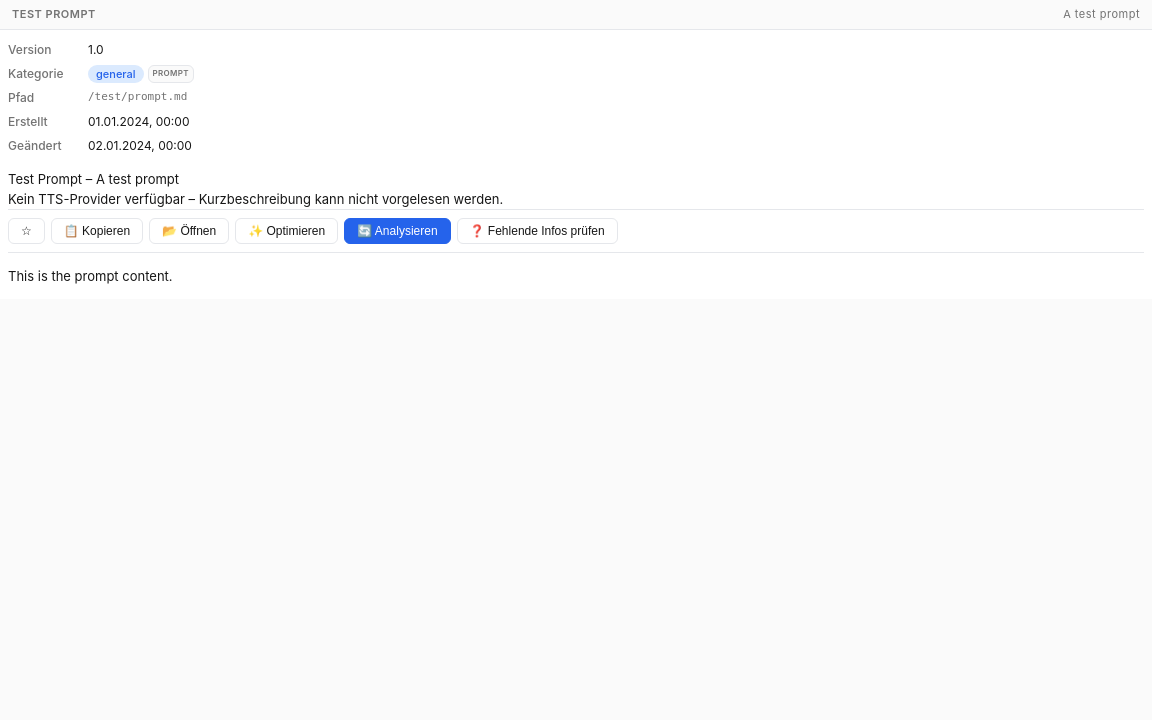
Scenario: DetailsPanel — Gate Trigger (Batch 6A) › handleOpenOptimizer does not crash when gateEnabled but no session exists
Click the button "✨ Optimieren": (287, 231) [235,218,338,244]
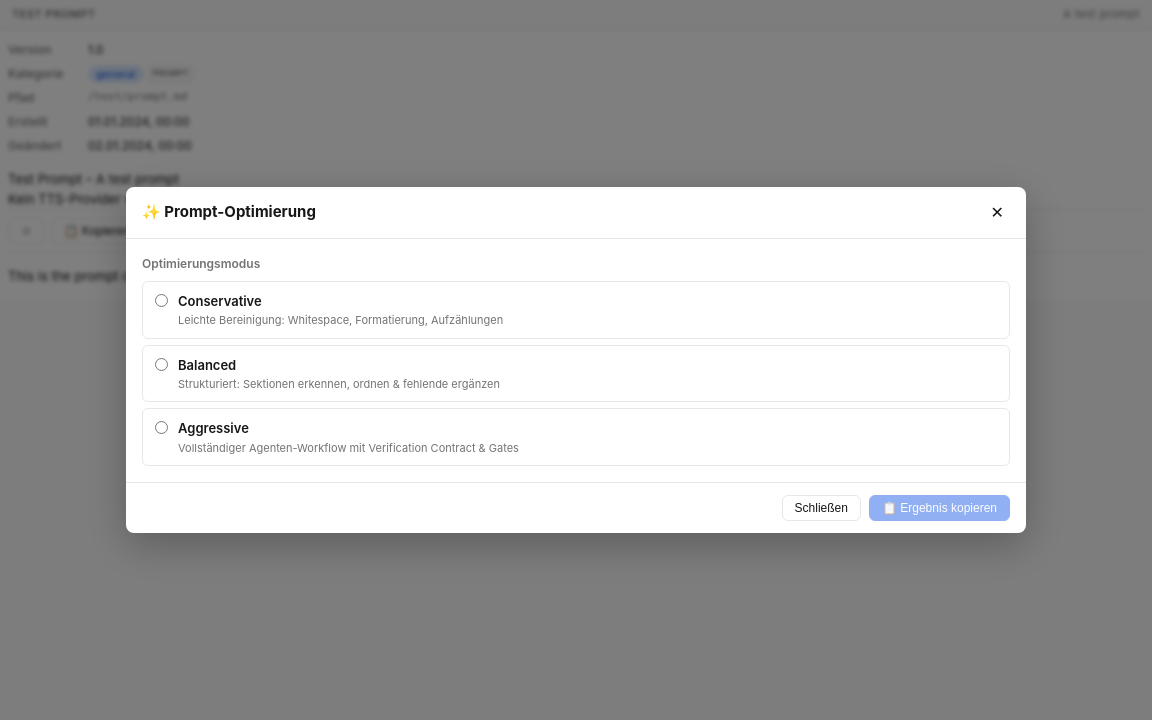
Check: the heading "✨ Prompt-Optimierung" is shown, box [142,201,316,224]
